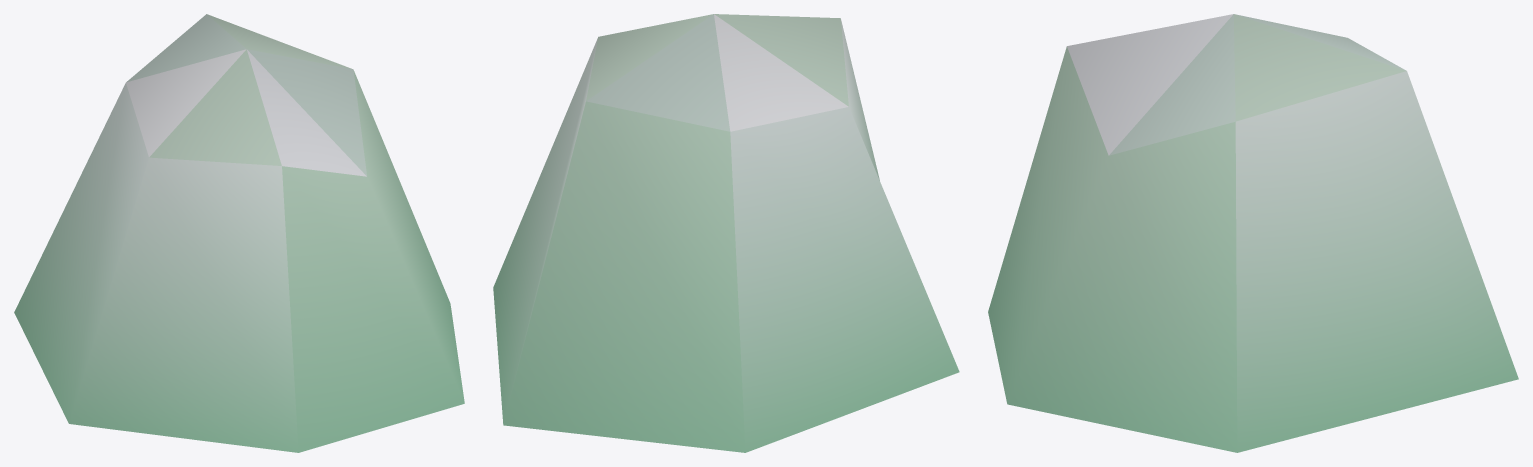
Rendered from bluebell_white_far.glb.
3 views of the same model, side by side, from view 1: azimuth 30°, elevation 25°; view 2: azimuth 150°, elevation 25°; view 3: azimuth 270°, elevation 25° (orthographic). The views are drawn at different scales.
Parts seen in each view (by area): view 1: soft; view 2: soft; view 3: soft.
Boxes of the visible parts, <box> form: soft: <box>14,14,464,452</box>; soft: <box>493,14,959,452</box>; soft: <box>988,14,1518,452</box>.
Bounding box in the file's own units: 0.3114 × 0.222 × 0.3232.
